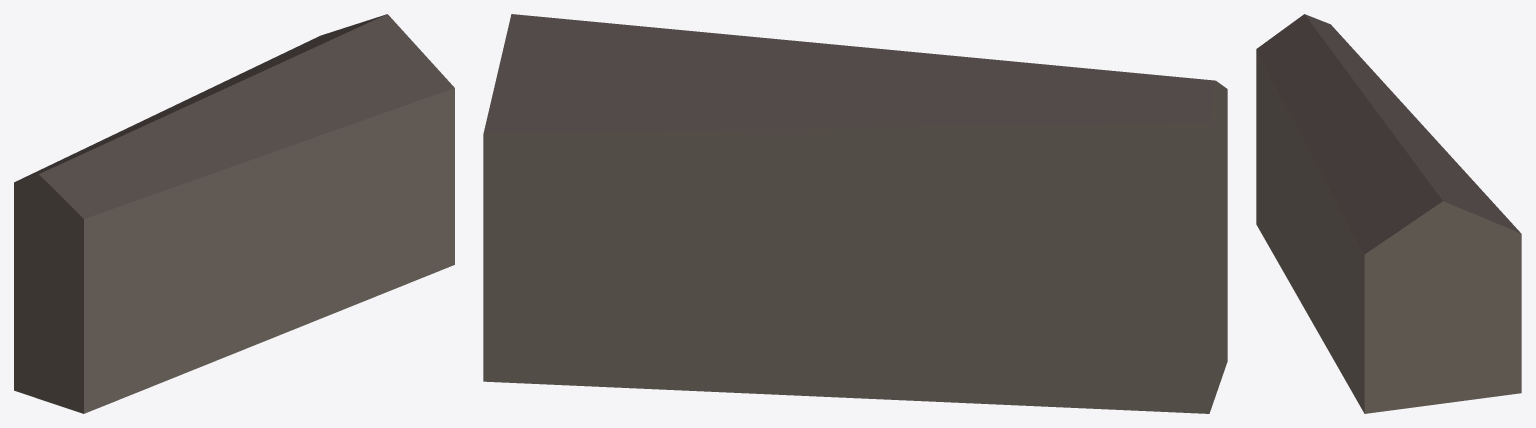
3 renders of one model, left to right at view 1: azimuth 30°, elevation 25°; view 2: azimuth 150°, elevation 25°; view 3: azimuth 270°, elevation 25°, orthographic. The views are drawn at different scales.
Visible parts, largest first — view 1: HP-w1198842237; view 2: HP-w1198842237; view 3: HP-w1198842237.
Boxes of the visible parts, x1=… form: HP-w1198842237: x1=14, y1=14, x2=454, y2=413; HP-w1198842237: x1=483, y1=14, x2=1227, y2=413; HP-w1198842237: x1=1256, y1=14, x2=1521, y2=413.
Size of the model in its own units: 16.3 by 7.62 by 9.05.
